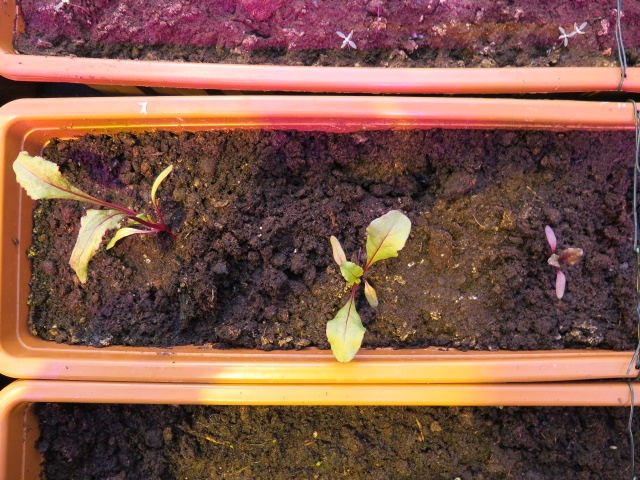crop: (11, 144, 192, 287), (312, 208, 422, 364), (532, 214, 583, 300)
weed: (332, 24, 359, 51)
